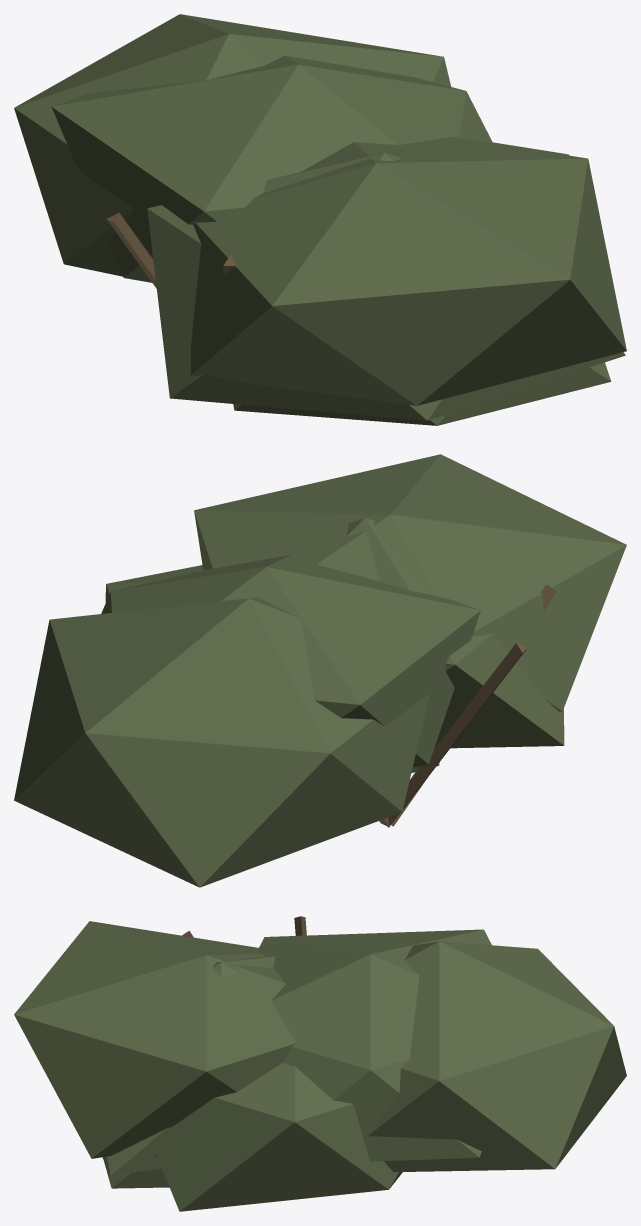
File: scrub_2.glb
3 views of the same model, one above another, from view 1: azimuth 30°, elevation 25°; view 2: azimuth 150°, elevation 25°; view 3: azimuth 270°, elevation 25° (orthographic). The views are drawn at different scales.
Visible parts, largest first — view 1: scrub_2; view 2: scrub_2; view 3: scrub_2.
Part boxes in pixels (bbox=[...]): scrub_2: bbox=[14, 14, 626, 425]; scrub_2: bbox=[14, 454, 626, 887]; scrub_2: bbox=[14, 916, 626, 1211].
Size of the model in its own units: 1.56 by 0.9342 by 2.35.
